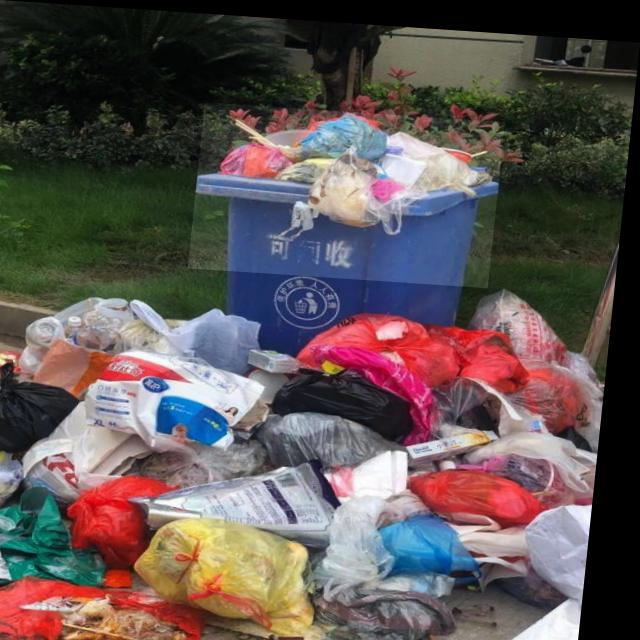garbage: (0, 254, 618, 640)
overflow: (187, 99, 507, 359)
